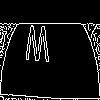W: (25, 24, 50, 71)
